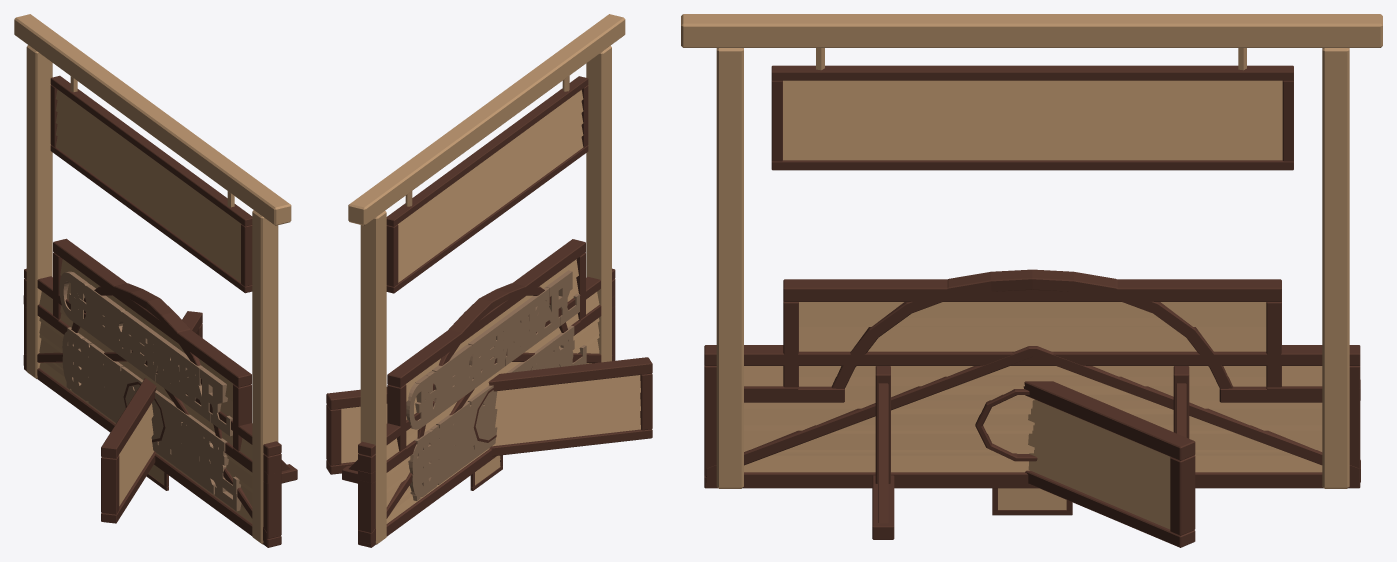
File: dynamite_mesh.glb
3 renders of one model, left to right at view 1: azimuth 30°, elevation 25°; view 2: azimuth 150°, elevation 25°; view 3: azimuth 270°, elevation 25°, orthographic. The views are drawn at different scales.
Visible parts, largest first — view 1: Welcome Sign, Sign C, Sign F, Bank Sign A, General Sign C, Sign B, Sheriff Sign C, Sign D, General Sign A, Doctor Sign C, General Sign B, Sheriff Sign B (+11 smaller); view 2: Welcome Sign, Sign F, Sign C, Bank Sign A, General Sign C, Sign B, Sheriff Sign C, Sign D, Doctor Sign C, General Sign A, Hotel Sign C, Sheriff Sign B (+11 smaller); view 3: Welcome Sign, Sign C, Sign B, Bank Sign A, Sign D, Sign F, Guns Sign A, Sign E, Small Sign.
Boxes of the visible parts, x1=… form: Welcome Sign: x1=14, y1=14, x2=291, y2=544; Sign C: x1=23, y1=238, x2=297, y2=547; Sign F: x1=101, y1=311, x2=202, y2=523; Bank Sign A: x1=24, y1=268, x2=297, y2=547; General Sign C: x1=59, y1=271, x2=232, y2=481; Sign B: x1=24, y1=283, x2=281, y2=509; Sheriff Sign C: x1=39, y1=281, x2=250, y2=421; Sign D: x1=23, y1=352, x2=279, y2=541; General Sign A: x1=62, y1=331, x2=240, y2=495; Doctor Sign C: x1=69, y1=272, x2=221, y2=428; General Sign B: x1=62, y1=345, x2=241, y2=511; Sheriff Sign B: x1=73, y1=352, x2=222, y2=491; Welcome Sign: x1=348, y1=14, x2=625, y2=544; Sign F: x1=326, y1=357, x2=652, y2=474; Sign C: x1=342, y1=239, x2=615, y2=546; Bank Sign A: x1=342, y1=268, x2=615, y2=547; General Sign C: x1=406, y1=274, x2=579, y2=483; Sign B: x1=371, y1=283, x2=615, y2=546; Sheriff Sign C: x1=386, y1=270, x2=580, y2=461; Sign D: x1=358, y1=352, x2=614, y2=542; Doctor Sign C: x1=415, y1=281, x2=570, y2=429; General Sign A: x1=408, y1=325, x2=586, y2=483; Hotel Sign C: x1=437, y1=294, x2=556, y2=414; Sheriff Sign B: x1=422, y1=342, x2=572, y2=496; Welcome Sign: x1=681, y1=14, x2=1382, y2=488; Sign C: x1=744, y1=279, x2=1360, y2=539; Sign B: x1=744, y1=269, x2=1322, y2=483; Bank Sign A: x1=704, y1=345, x2=1360, y2=539; Sign D: x1=706, y1=346, x2=1360, y2=481; Sign F: x1=1023, y1=381, x2=1195, y2=547; Guns Sign A: x1=704, y1=354, x2=1360, y2=539; Sign E: x1=706, y1=350, x2=1360, y2=482; Small Sign: x1=992, y1=488, x2=1072, y2=515.
Bounding box in the file's own units: 3.33 × 5.51 × 7.06.
